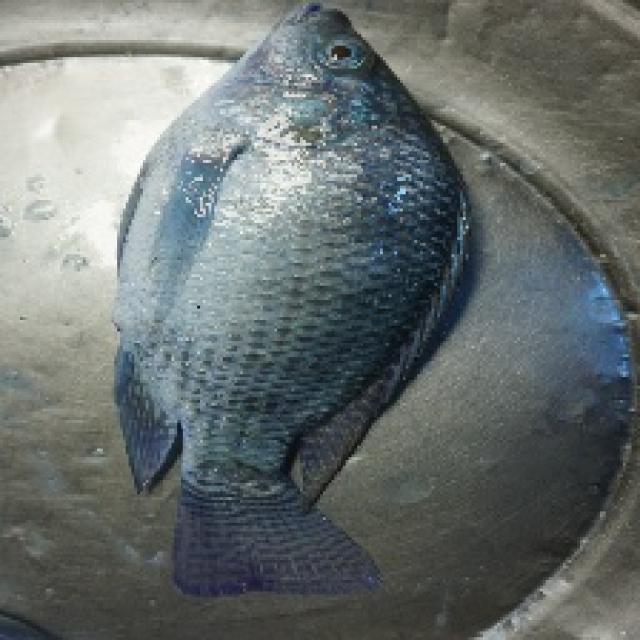Fresh: (125, 0, 479, 616)
